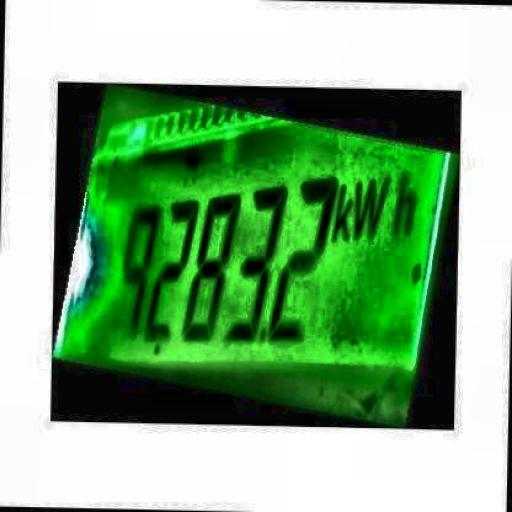DISPLAY_REGION: (54, 79, 455, 424)
SERIAL_REGION: (119, 179, 395, 343)
